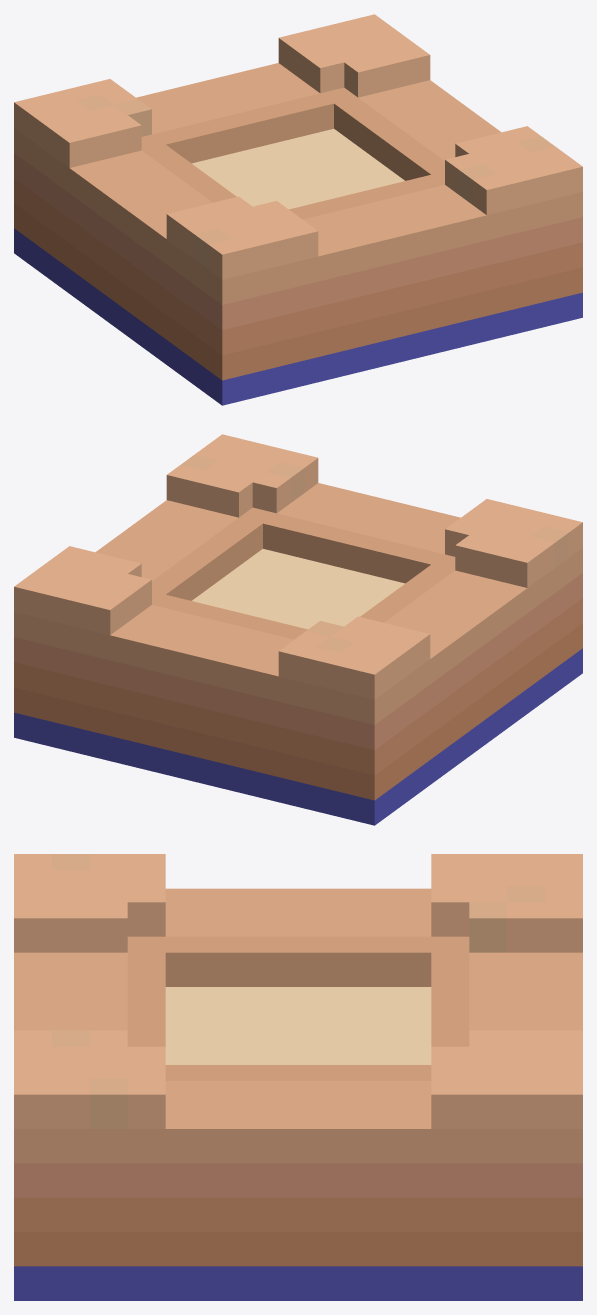
The model's file is tower-square-top-color.glb.
3 views of the same model, one above another, from view 1: azimuth 30°, elevation 25°; view 2: azimuth 150°, elevation 25°; view 3: azimuth 270°, elevation 25° (orthographic). The views are drawn at different scales.
Visible parts, largest first — view 1: tower-square-top-color; view 2: tower-square-top-color; view 3: tower-square-top-color.
Part boxes in pixels (left/top/right/bottom): tower-square-top-color: left=14, top=14, right=582, bottom=405; tower-square-top-color: left=14, top=434, right=582, bottom=825; tower-square-top-color: left=14, top=854, right=582, bottom=1300.
Bounding box in the file's own units: 1.07 × 0.4284 × 1.07.
1 material, 1 textured.
